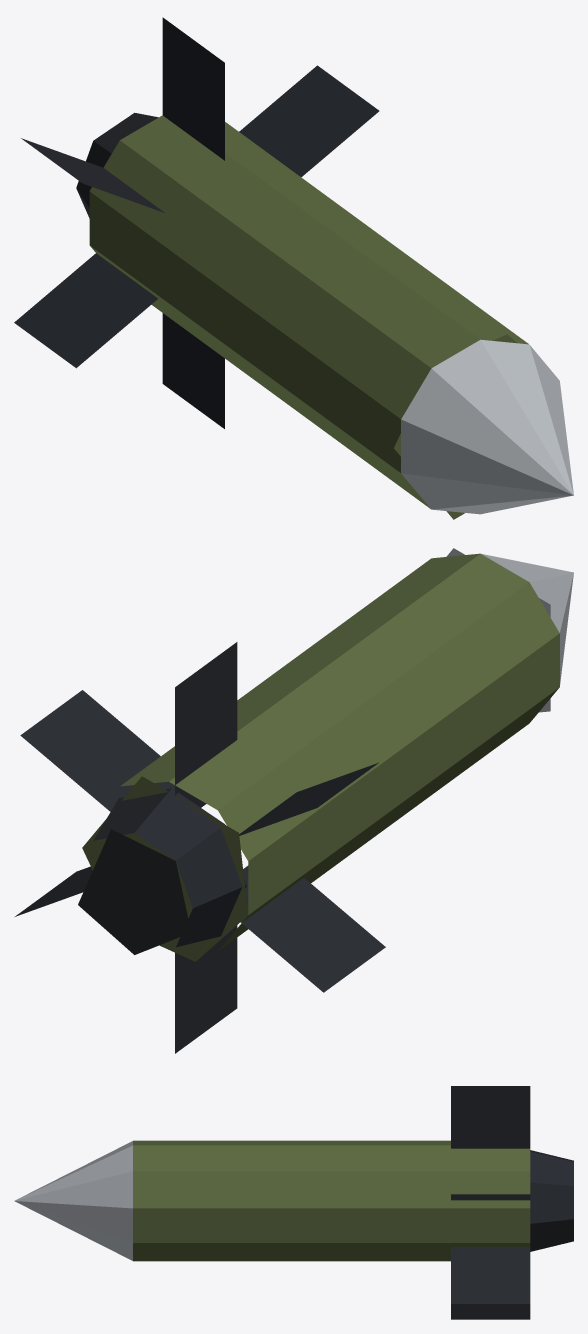
The model's file is torpedo-fragmentation.lod.glb.
3 renders of one model, top to bottom at view 1: azimuth 30°, elevation 25°; view 2: azimuth 150°, elevation 25°; view 3: azimuth 270°, elevation 25°, orthographic. The views are drawn at different scales.
Visible parts, largest first — view 1: m; view 2: m; view 3: m.
Boxes of the visible parts, box(x1,y1,x2,y2) form: m: box(14, 17, 573, 519); m: box(15, 548, 573, 1053); m: box(14, 1086, 573, 1319).
Size of the model in its own units: 0.1119 by 0.1266 by 0.275.
